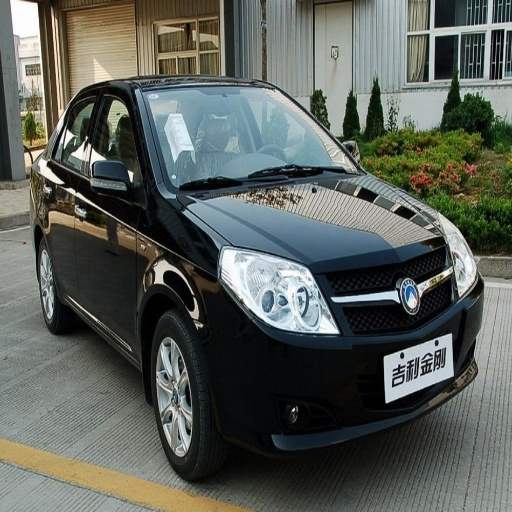front_bumper: (207, 264, 478, 454)
front_right_door: (75, 85, 146, 338)
front_right_light: (220, 247, 338, 334)
